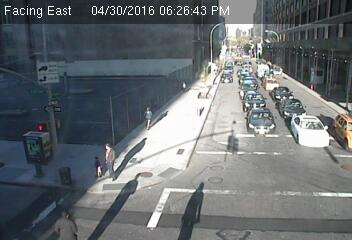neg: (176, 175, 209, 220), (258, 108, 290, 151), (150, 100, 178, 138), (57, 49, 83, 83), (25, 61, 49, 93), (127, 159, 149, 189), (125, 58, 145, 86), (175, 112, 194, 137), (211, 101, 229, 124), (248, 13, 264, 34), (220, 67, 233, 85), (91, 7, 104, 23), (143, 7, 154, 23), (239, 62, 250, 77), (284, 66, 294, 79), (50, 5, 58, 16), (192, 76, 199, 85), (219, 49, 223, 56)
pos: (93, 138, 125, 181), (82, 151, 104, 181), (138, 105, 158, 132)
